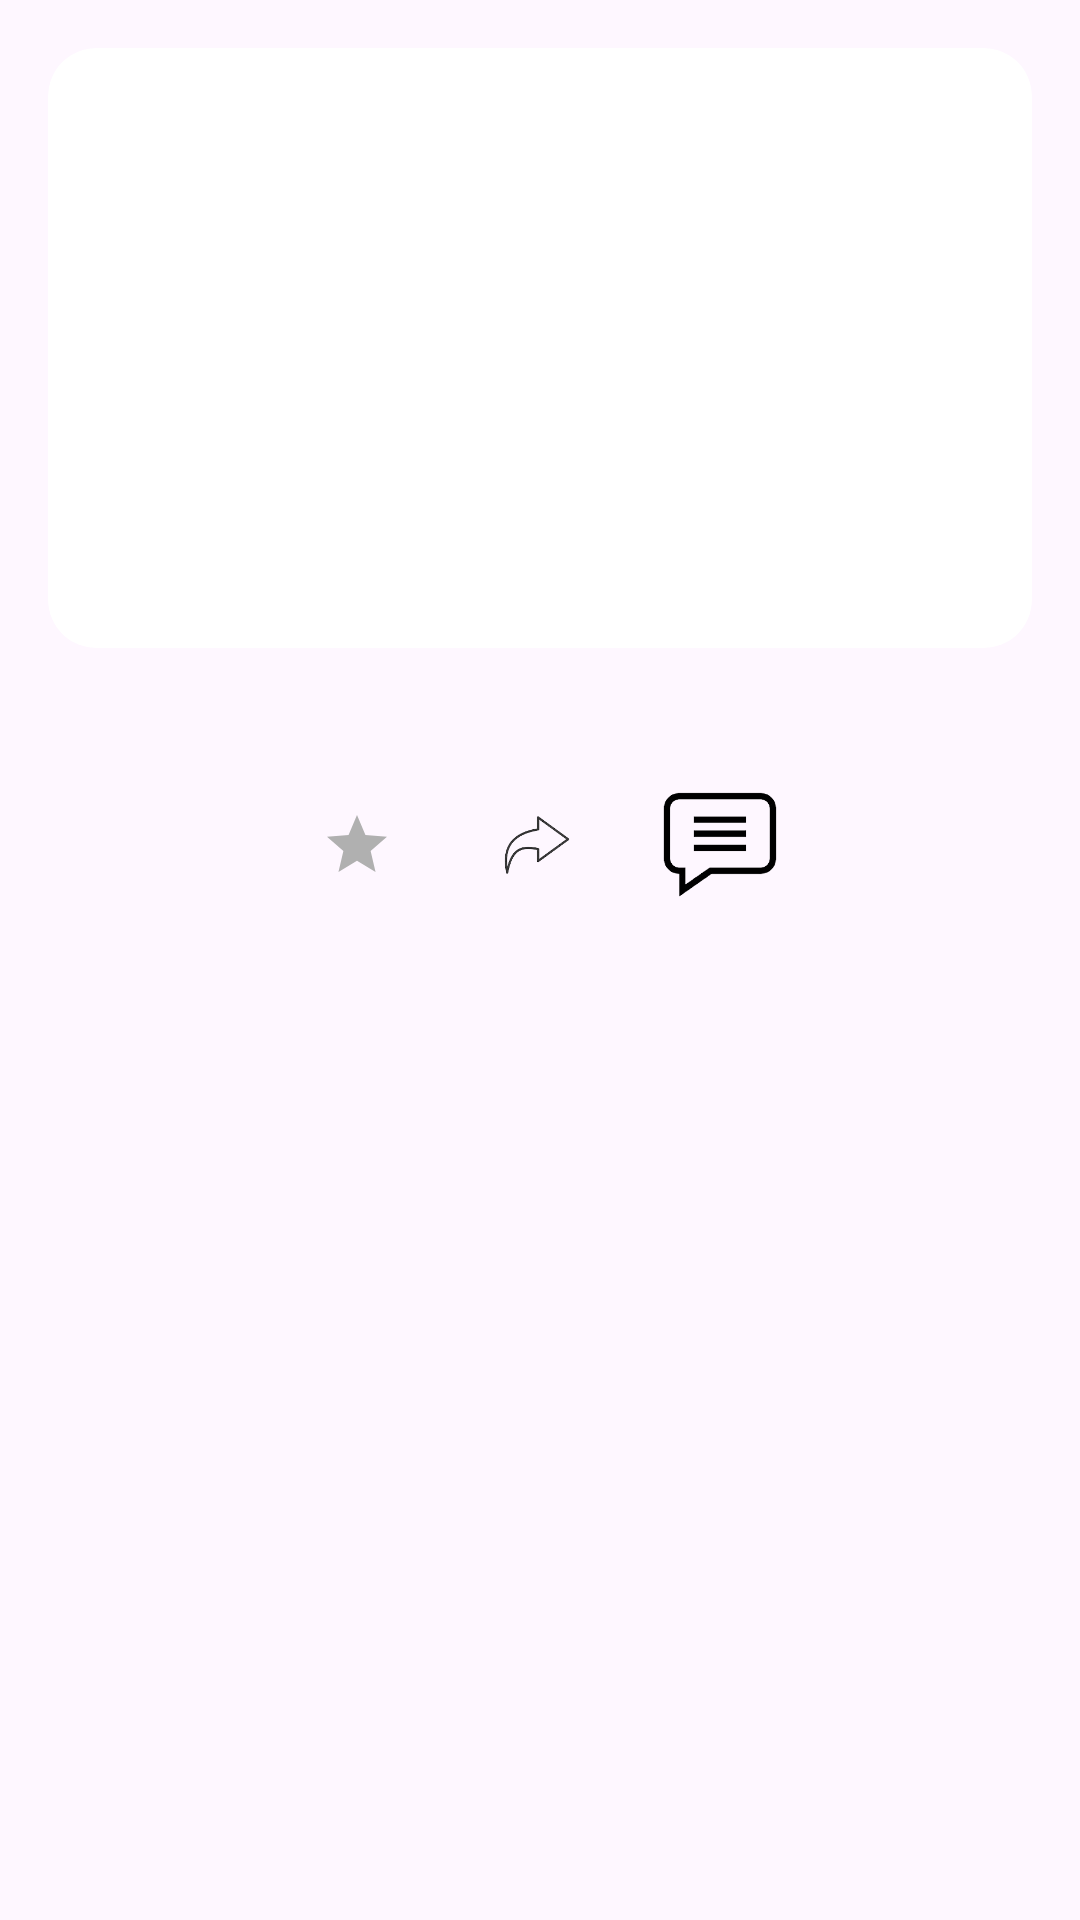

Icon click points for this 1080px x 1920px phone screenshot, format (x=x, y=y):
comment: (x=720, y=844)
share: (x=537, y=845)
